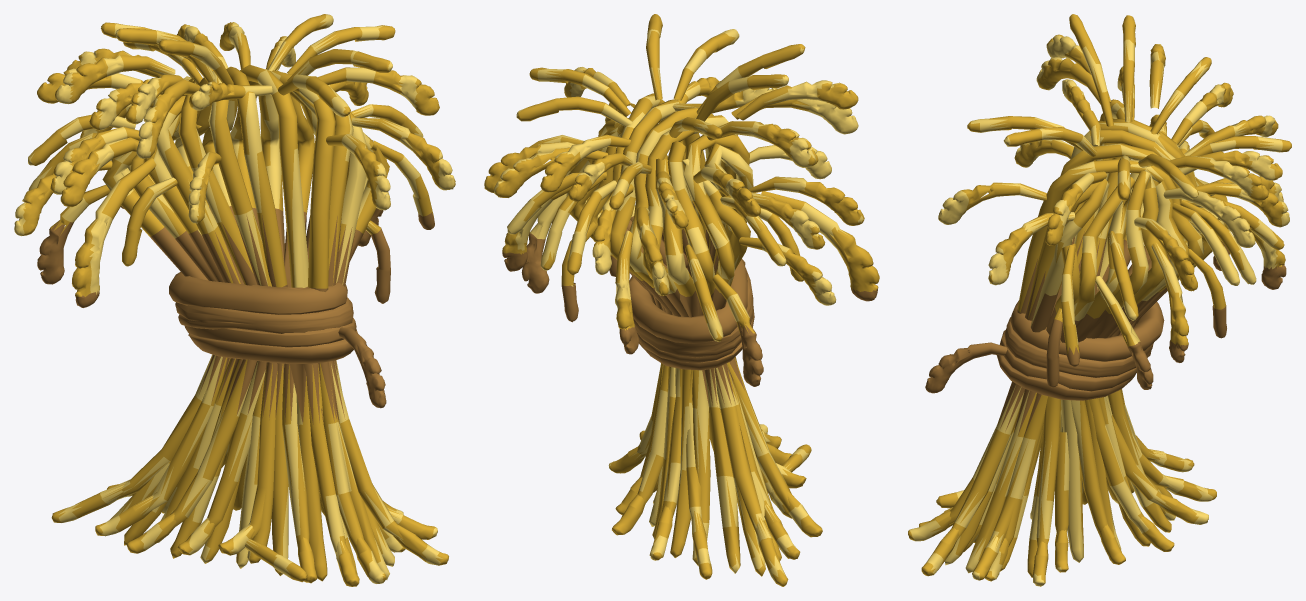
File: HayBundle.glb
3 renders of one model, left to right at view 1: azimuth 30°, elevation 25°; view 2: azimuth 150°, elevation 25°; view 3: azimuth 270°, elevation 25°, orthographic. The views are drawn at different scales.
Parts seen in each view (by area): view 1: HayBundle; view 2: HayBundle; view 3: HayBundle.
Part boxes in pixels (box(x1,y1,x2,y2)): HayBundle: box(14, 14, 455, 586); HayBundle: box(484, 14, 879, 586); HayBundle: box(908, 14, 1291, 586).
Size of the model in its own units: 0.2173 by 0.2852 by 0.2056.
